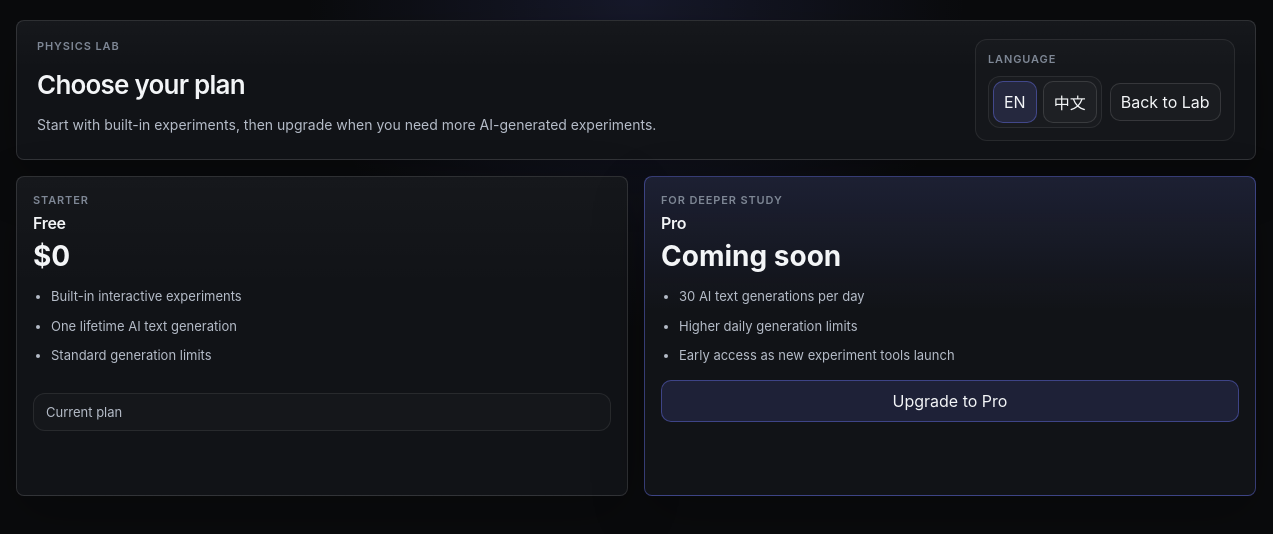
Test: App › shows a pricing page and records Pro purchase intent
The image size is (1273, 534).
Expected: the heading "Choose your plan" is shown, [37,69,245,100]
Click the button "Upgrade to Pro" at {"x": 950, "y": 400}, box [661,380,1239,422]
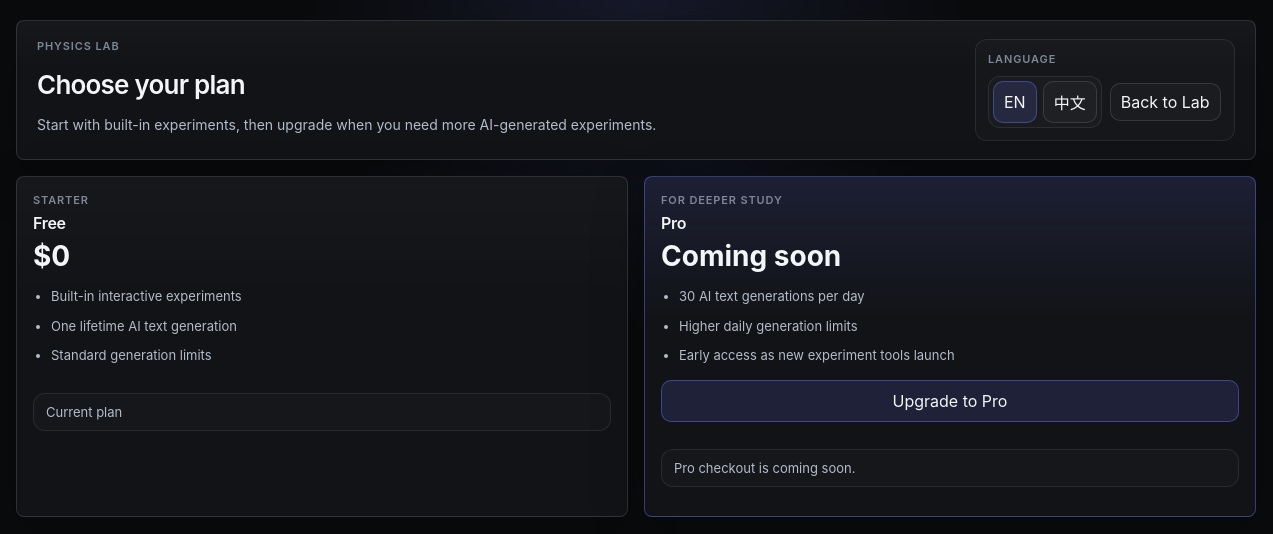
Expected: the text "Pro checkout is coming soon." is shown, [661,448,1239,486]
